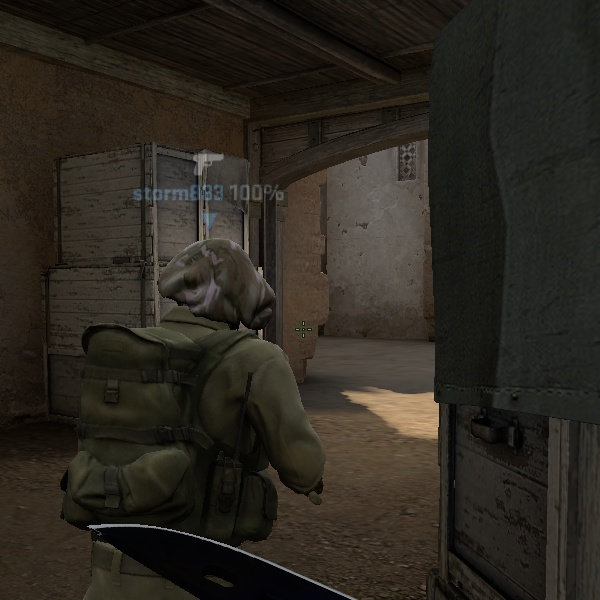ct_body: (34, 236, 339, 591)
ct_head: (148, 230, 292, 358)
